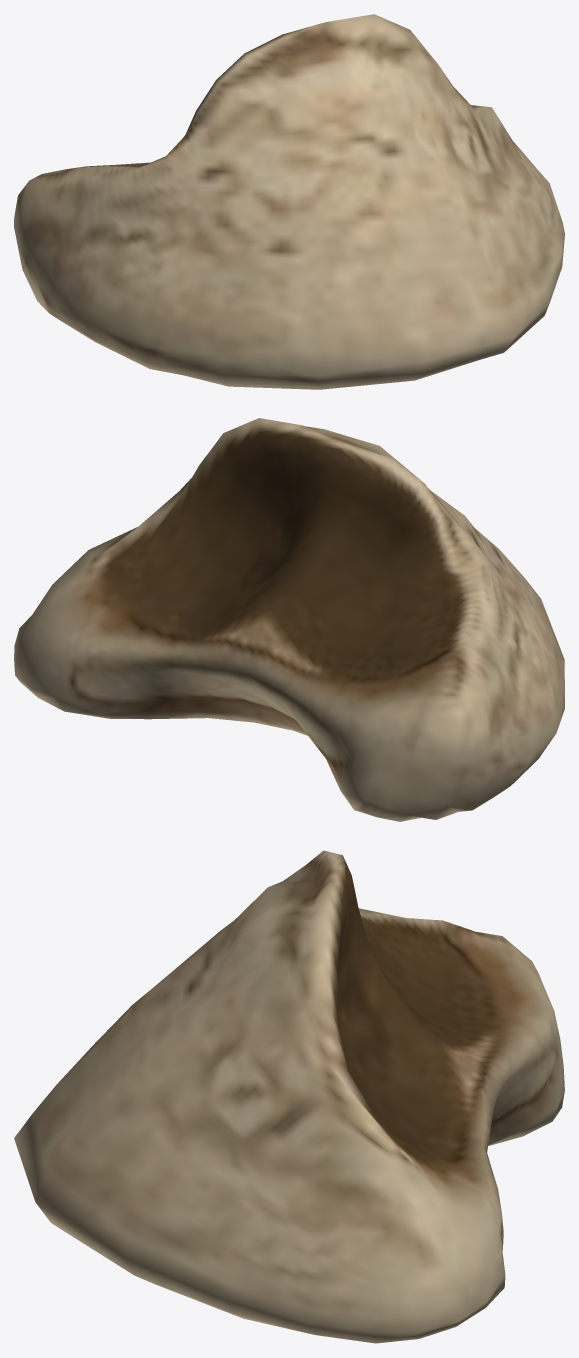
Rendered from Coffin.glb.
3 renders of one model, top to bottom at view 1: azimuth 30°, elevation 25°; view 2: azimuth 150°, elevation 25°; view 3: azimuth 270°, elevation 25°, orthographic. The views are drawn at different scales.
Parts seen in each view (by area): view 1: R_Frt_Coffin; view 2: R_Frt_Coffin; view 3: R_Frt_Coffin.
Boxes of the visible parts, <box> form: R_Frt_Coffin: <box>14,14,564,389</box>; R_Frt_Coffin: <box>14,418,564,821</box>; R_Frt_Coffin: <box>14,850,564,1343</box>.
Size of the model in its own units: 0.0795 by 0.0448 by 0.0649.
1 material, 1 textured.
